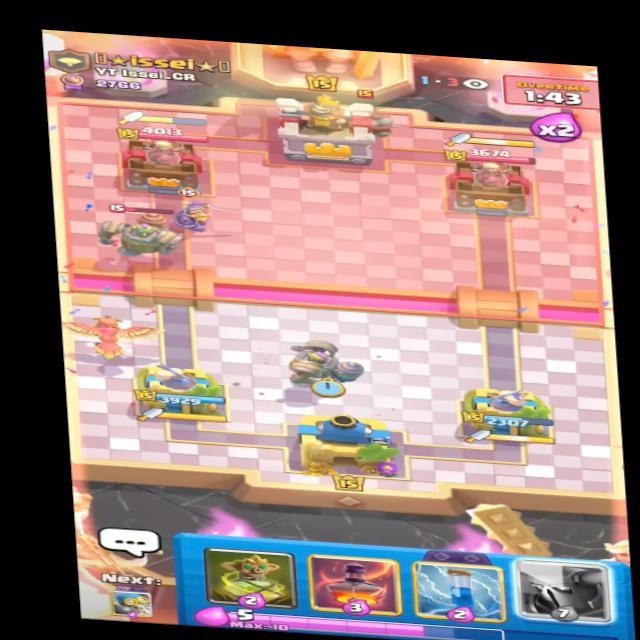evo-knight: (159, 179, 239, 235)
goblin-machine: (98, 202, 186, 264)
ram-rider: (349, 85, 399, 134)
